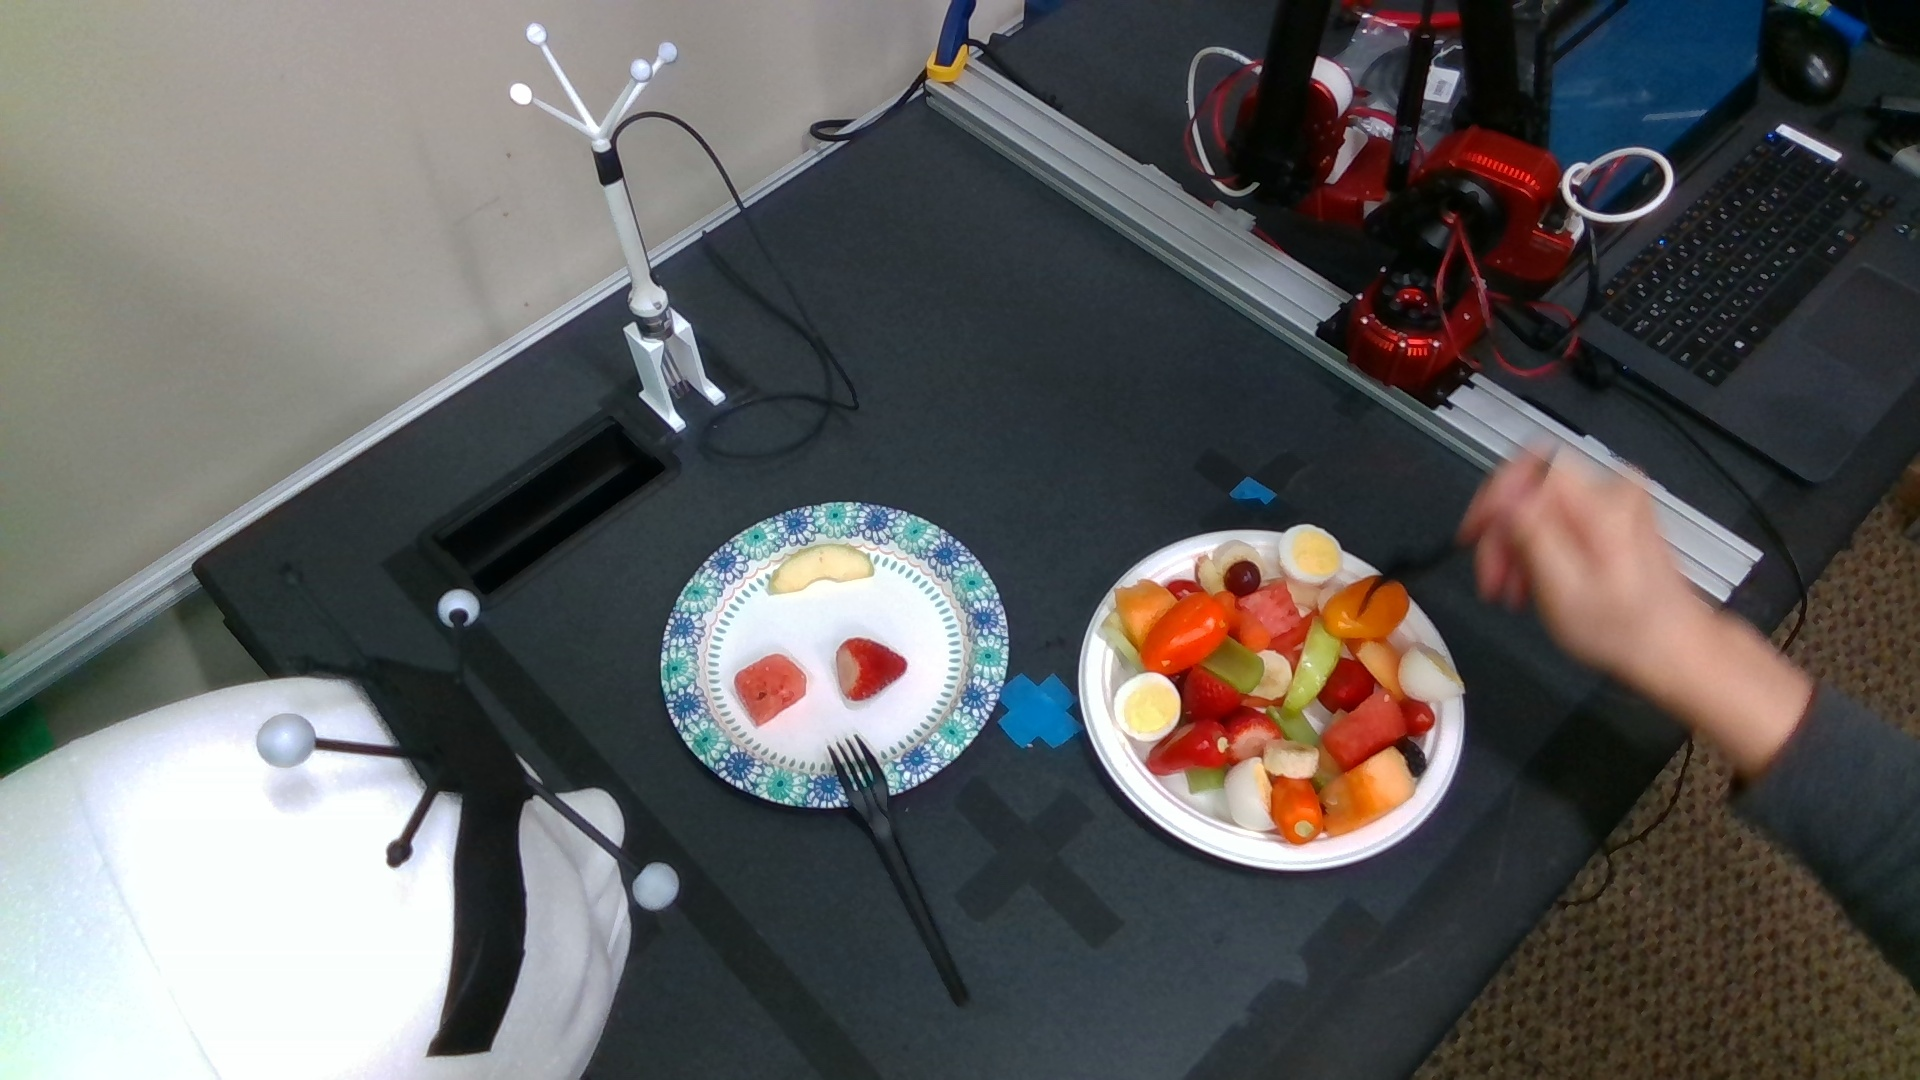apple: (770, 543, 876, 593), (1283, 617, 1338, 709)
banana: (1262, 738, 1317, 777)
bell pepper: (1145, 589, 1225, 673), (1324, 578, 1410, 640), (1150, 720, 1226, 774), (1274, 775, 1323, 841)
cantalope: (1327, 749, 1414, 833), (1118, 582, 1172, 647)
celery: (1205, 636, 1265, 694)
cherry tomato: (1399, 700, 1432, 735)
egg: (1114, 673, 1180, 738), (1280, 524, 1342, 584), (1225, 757, 1276, 829), (1399, 644, 1464, 699)
grape: (1224, 560, 1262, 596)
melon: (1328, 684, 1400, 766), (737, 654, 806, 727)
strawberry: (837, 637, 907, 700), (1226, 709, 1284, 762), (1183, 669, 1242, 719)
